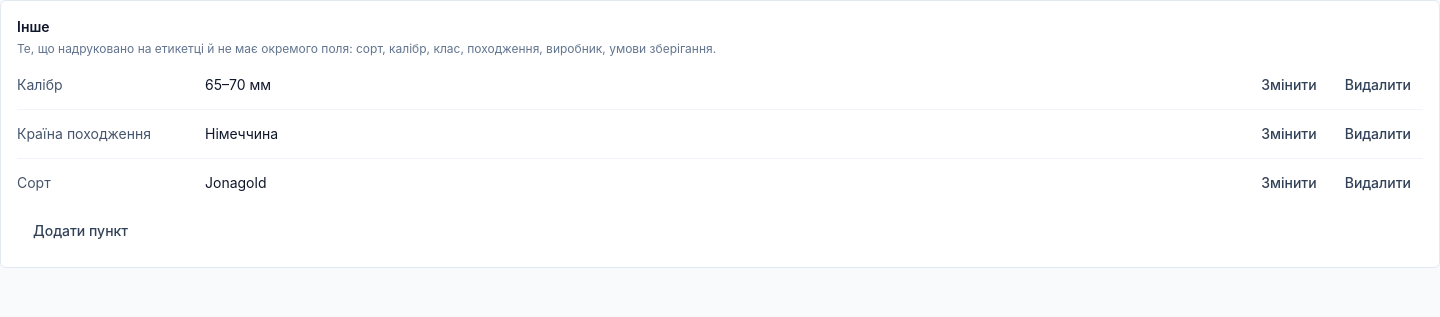
Test: AttributesPanel › lets a pair keep its own name while it is edited, and refuses another pair’s name
Click the button with aria-label "Змінити: Сорт".
click(1289, 183)  # box x1=1249 y1=167 x2=1329 y2=199
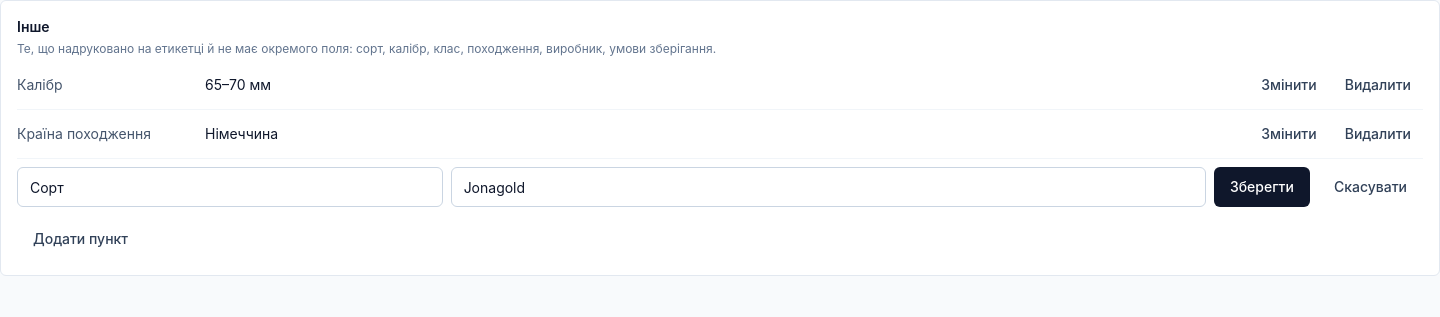
Replace the text in the field named "Назва пункту" with "калібр" at (230, 187), box x1=17 y1=167 x2=443 y2=207
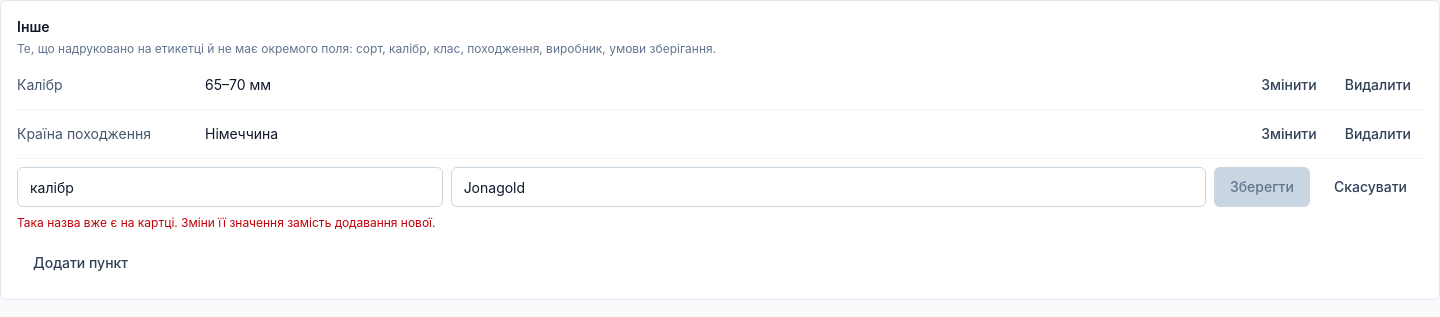
expect the message "Така назва вже є на картці. Зміни її значення замість додавання нової." is shown: met, box x1=17 y1=215 x2=436 y2=230
expect the button "Зберегти" is disabled: met, box x1=1214 y1=167 x2=1310 y2=207
